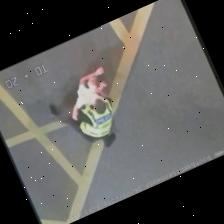person: (60, 67, 114, 147)
